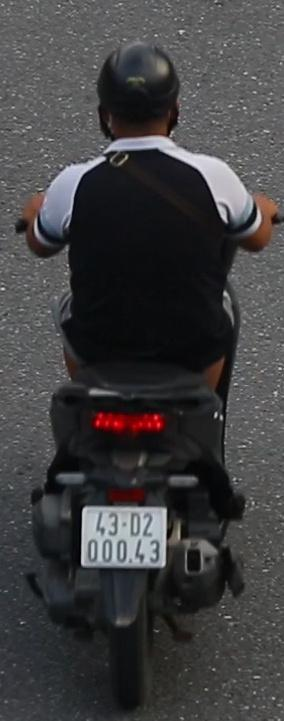LP: (79, 502, 171, 573)
helmet: (85, 36, 196, 166)
